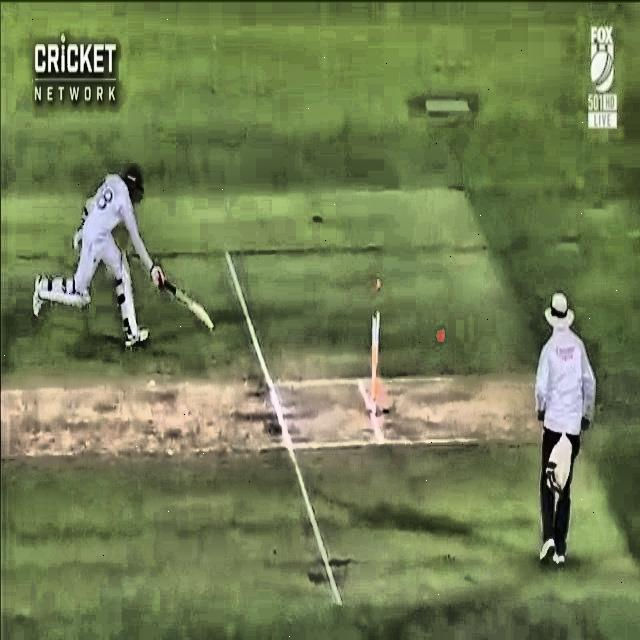Ball: (419, 315, 460, 355)
Bat: (142, 261, 218, 334)
Dis_Wicket: (358, 265, 396, 423)
Pitch_Line: (223, 251, 340, 607)
